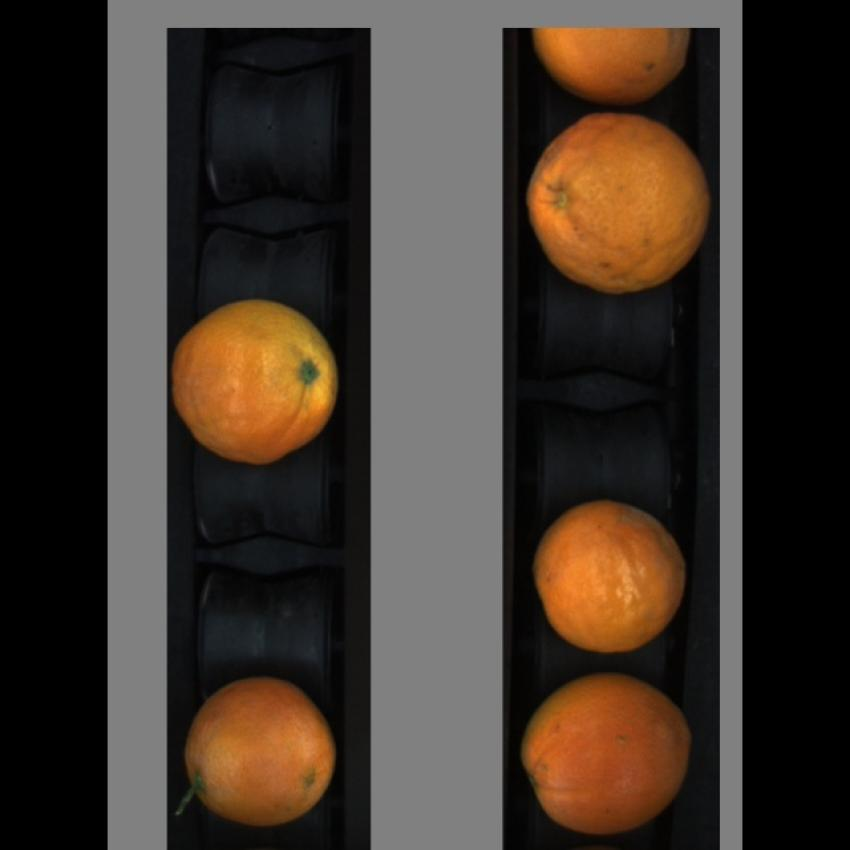Mal estado: (525, 107, 714, 297), (170, 293, 347, 465), (523, 671, 693, 833), (529, 496, 695, 653), (184, 673, 342, 830), (529, 29, 699, 106)
